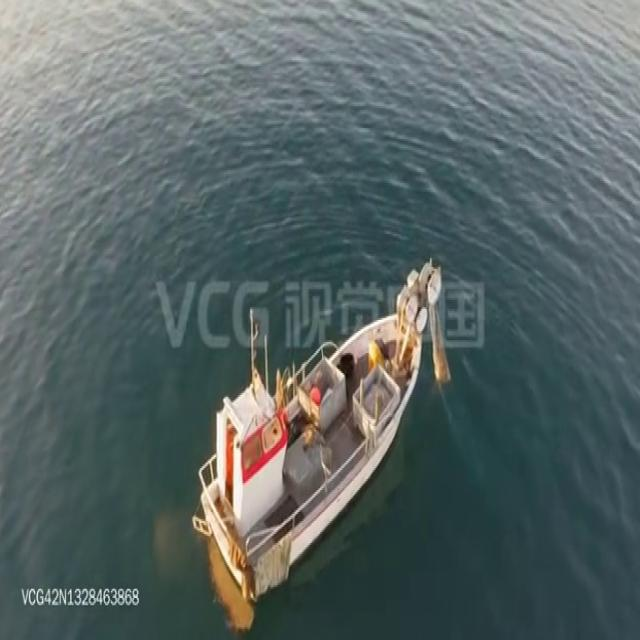houseboat: (194, 265, 446, 588)
